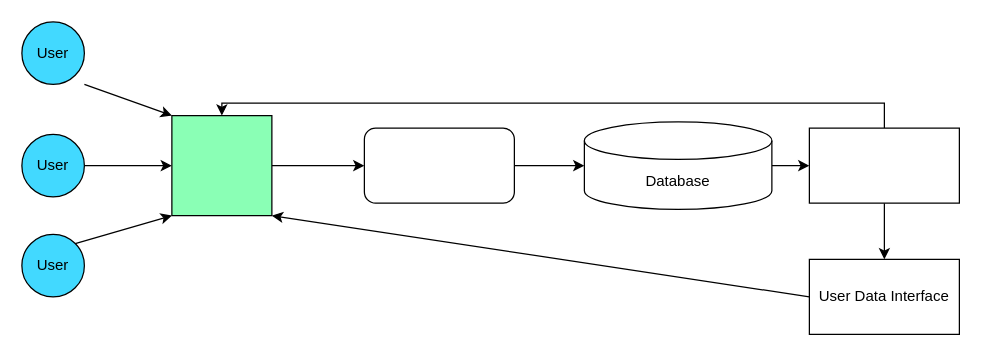
Image size: 981x356. Some labels were removed from this diagram. The shapes that lost their labels are listed below. From the top down, each one's centre as x and y in pixels, then its label:
(x=221, y=165): Web App
(x=438, y=165): API Gateway
(x=883, y=165): Raw Data
